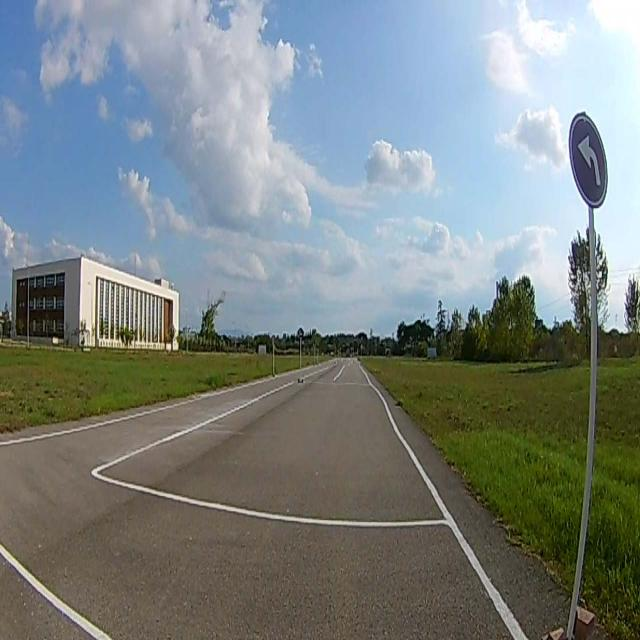sol: (570, 115, 609, 205)
